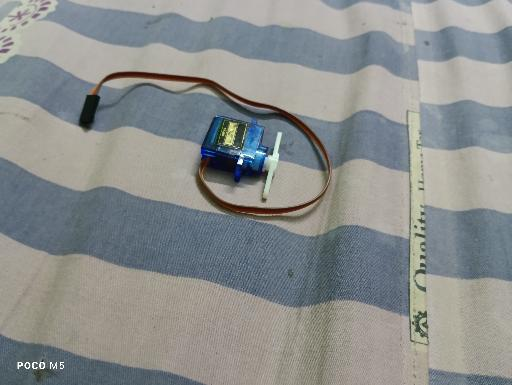Motor: (200, 113, 283, 202)
